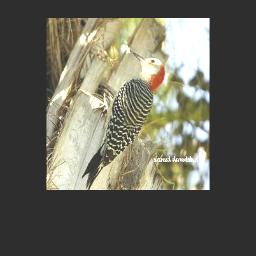Woodpecker: (81, 51, 168, 189)
